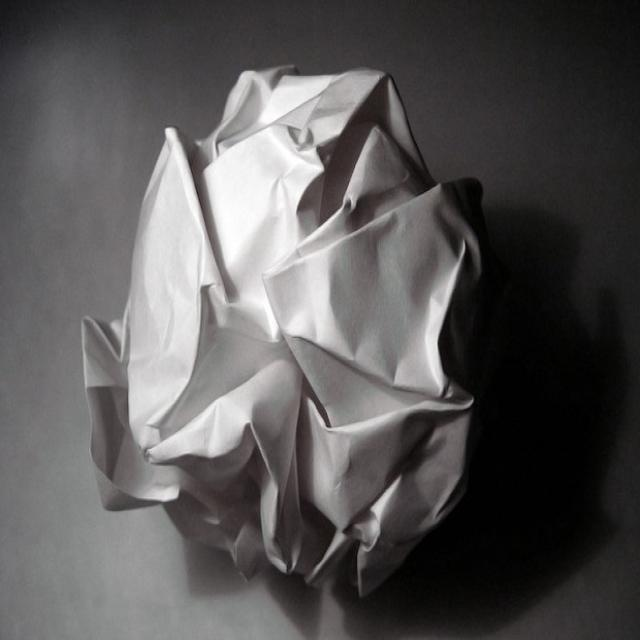Paper: (80, 66, 507, 601)
